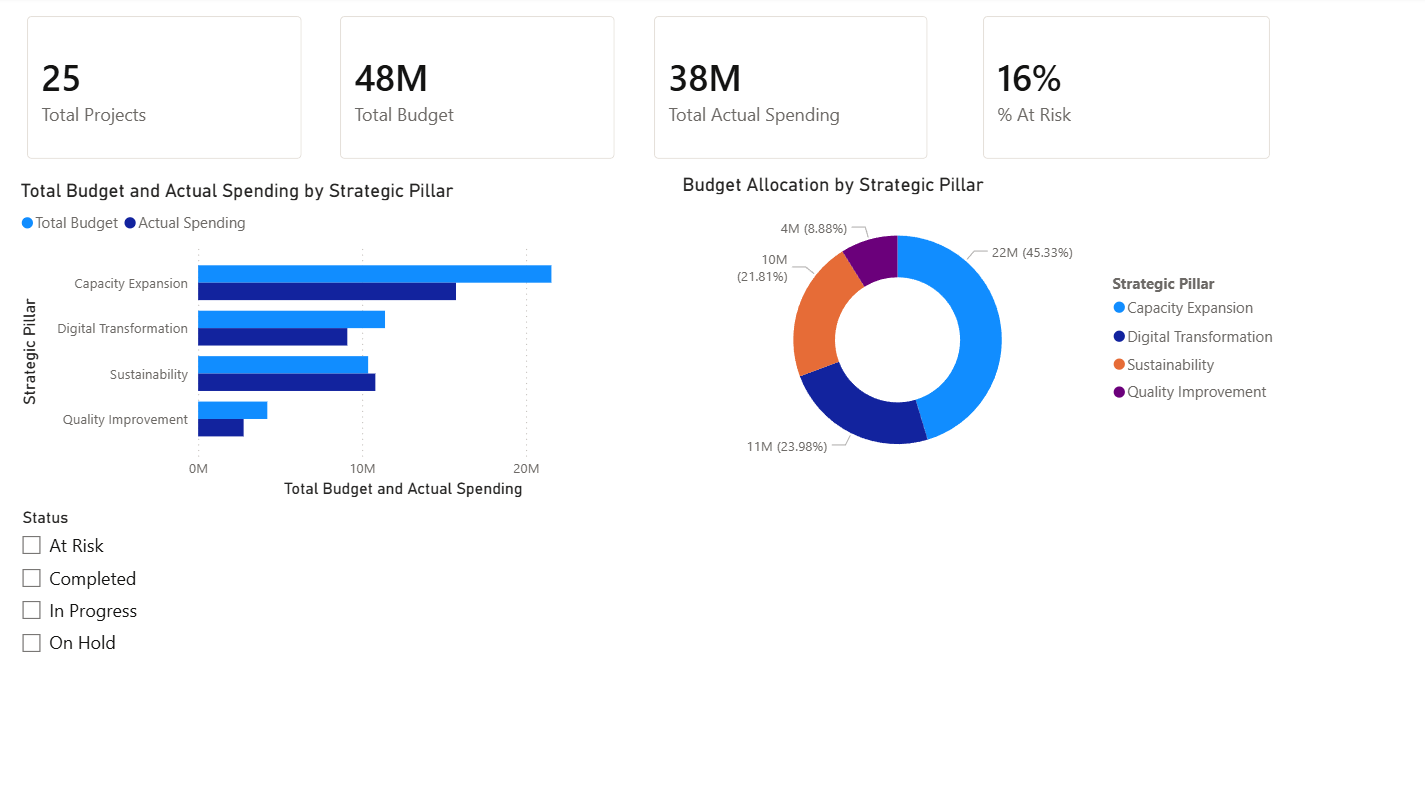

The page's visual inventory and layout, read from the dashboard file:
{"tool":"powerbi","page":{"name":"Page 1","canvas":[1280,720],"ordinal":0},"visuals":[{"type":"cardVisual","fields":{"Data":["Sum(projects.BudgetDKK)"]},"box":[289.5,0,280.8,162.7],"z":0},{"type":"cardVisual","fields":{"Data":["projects.% At Risk"]},"box":[864.6,0,291.4,162.7],"z":1000},{"type":"cardVisual","fields":{"Data":["Sum(projects.ActualSpendDKK)"]},"box":[570.3,0,279.8,162.7],"z":2000},{"type":"donutChart","fields":{"Category":["projects.StrategicPillar"],"Y":["Sum(projects.BudgetDKK)"]},"box":[608,157.8,548,279.8],"z":3000},{"type":"clusteredBarChart","fields":{"Y":["Sum(projects.BudgetDKK)","Sum(projects.ActualSpendDKK)"],"Category":["projects.StrategicPillar"]},"box":[15.5,162.7,548,290.5],"z":4000},{"type":"cardVisual","fields":{"Data":["CountNonNull(projects.ProjectID)"]},"box":[8.7,0,280.8,162.7],"z":5000},{"type":"slicer","fields":{"Values":["projects.Status"]},"box":[8.7,453.1,176.2,160.7],"z":6000}]}

Visuals, with their boxes in screenshot pixels (x1, y1, x2, y2), scaled from the page's 1280x720 canvas onto the 1425x799 screenshot:
cardVisual - Sum(projects.BudgetDKK): (x1=322, y1=0, x2=635, y2=181)
cardVisual - projects.% At Risk: (x1=963, y1=0, x2=1287, y2=181)
cardVisual - Sum(projects.ActualSpendDKK): (x1=635, y1=0, x2=946, y2=181)
donutChart - projects.StrategicPillar x Sum(projects.BudgetDKK): (x1=677, y1=175, x2=1287, y2=486)
clusteredBarChart - Sum(projects.BudgetDKK) x Sum(projects.ActualSpendDKK): (x1=17, y1=181, x2=627, y2=503)
cardVisual - CountNonNull(projects.ProjectID): (x1=10, y1=0, x2=322, y2=181)
slicer - projects.Status: (x1=10, y1=503, x2=206, y2=681)
